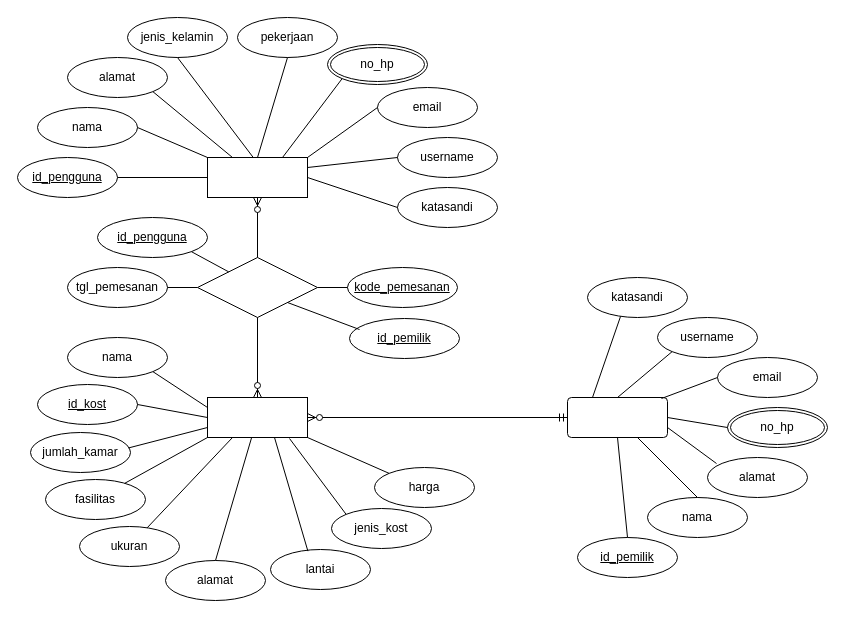
Image size: 845x618. Some labels were removed from this diagram. Here are the shapes that lost their labels. From the top down, the centre of each, then its label:
At point 257,177: "tb_pengguna".
At point 257,287: "tb_pemesanan".
At point 257,417: "tb_kost".
At point 617,417: "tb_pemilik_kost".
